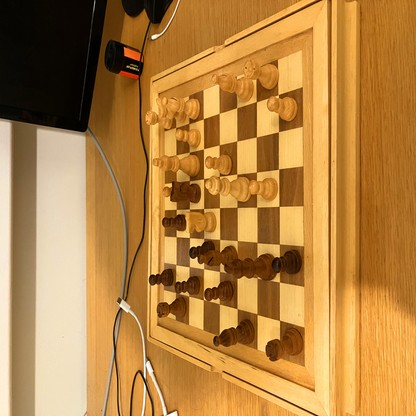bishop_black: (214, 321, 254, 346), (198, 246, 237, 266)
bishop_white: (212, 73, 255, 99), (163, 98, 201, 119)
king_black: (225, 255, 274, 280)
king_white: (153, 155, 200, 177)
knight_black: (170, 180, 201, 203)
knight_white: (185, 212, 218, 234), (157, 98, 186, 120)
pawn_black: (272, 250, 301, 275), (204, 280, 233, 299), (189, 240, 214, 258), (174, 277, 200, 293), (150, 268, 173, 285), (162, 216, 186, 229)
pawn_white: (268, 94, 297, 120), (249, 178, 279, 201), (205, 154, 232, 173), (176, 129, 201, 148)
queen_white: (204, 177, 251, 202)
rock_black: (266, 329, 303, 361), (156, 297, 187, 318)
rock_white: (244, 60, 279, 89), (145, 112, 173, 129)
